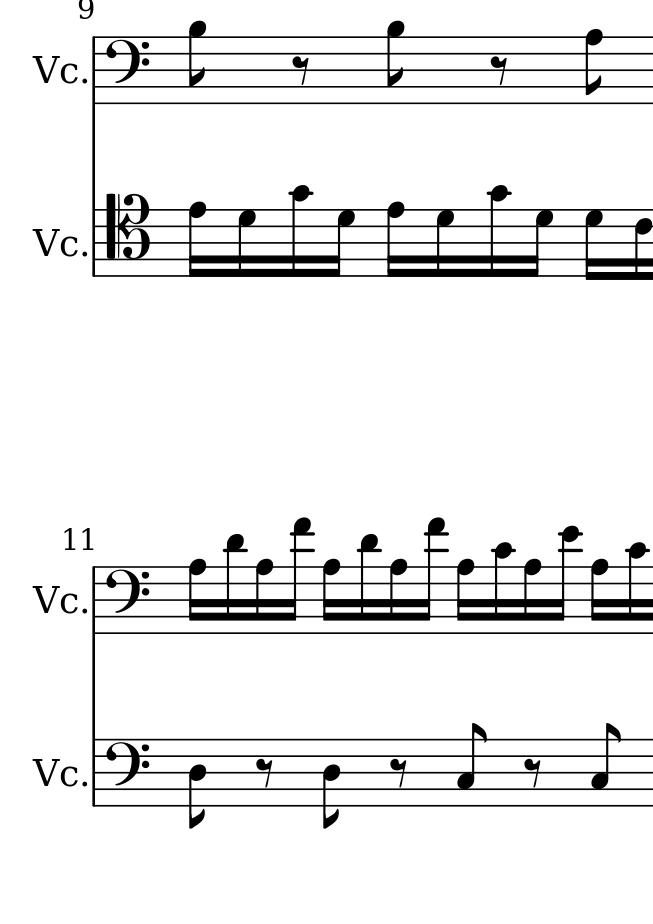1: (79, 527, 96, 554), (62, 527, 76, 553)
16_10: (625, 542, 652, 636), (486, 184, 512, 279), (491, 541, 517, 636), (288, 184, 313, 279)
16_11: (222, 532, 247, 635), (356, 532, 381, 635)
16_12: (552, 525, 583, 637)
16_13: (286, 516, 314, 635), (420, 516, 448, 635)
16_6: (632, 207, 653, 283)
16_7: (328, 207, 356, 281), (527, 207, 554, 281), (433, 205, 455, 280), (583, 206, 604, 284), (235, 205, 256, 280)
16_8: (186, 558, 209, 636), (384, 200, 406, 280), (186, 200, 208, 279), (253, 557, 275, 636), (320, 557, 342, 636), (387, 557, 409, 636), (454, 557, 476, 636), (521, 558, 543, 636), (588, 558, 610, 636)
8_3: (455, 722, 488, 808), (589, 722, 622, 808)
8_4: (186, 738, 207, 831), (320, 738, 341, 831)
8_8: (582, 28, 605, 106)
8_9: (385, 20, 406, 107), (186, 20, 207, 106)
9: (77, 1, 95, 20)
Fclef: (103, 565, 152, 637), (103, 737, 151, 808), (104, 36, 151, 107)
Rests8: (290, 54, 313, 88), (488, 54, 511, 87), (254, 756, 276, 790), (387, 756, 408, 788), (522, 756, 542, 789)
Single_barline: (87, 210, 102, 278), (87, 566, 101, 635), (88, 36, 101, 105), (88, 739, 101, 808)
Tensor_Cclef: (103, 192, 151, 277)
